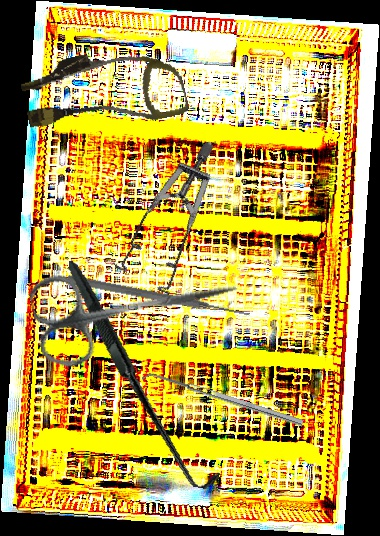Cannula: (17, 34, 190, 148)
Hook Surgical: (31, 260, 255, 492)
Iris Scissors: (26, 238, 246, 374)
Pusher: (66, 273, 253, 321)
Spatula Surgical: (141, 368, 304, 433)
Speculum: (84, 140, 268, 311)
